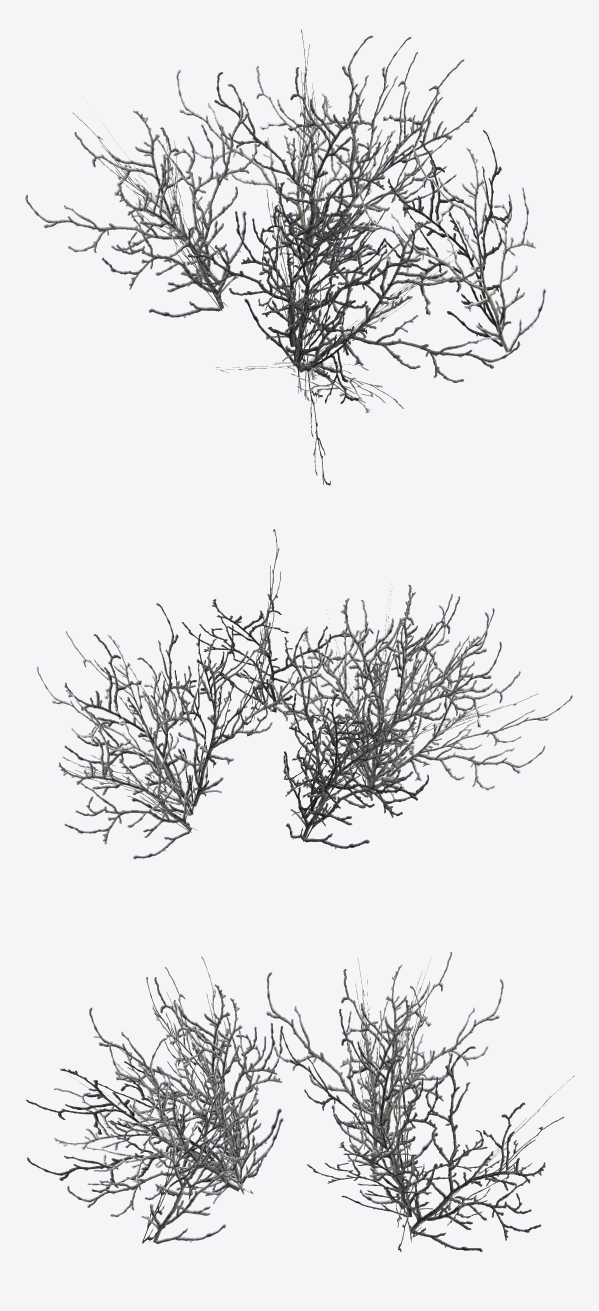
The model's file is SM_EN_2007_guanmu_03.FBX.
The picture shows the model from 3 angles, top to bottom: view 1: azimuth 30°, elevation 25°; view 2: azimuth 150°, elevation 25°; view 3: azimuth 270°, elevation 25°; orthographic projection. The views are drawn at different scales.
Parts seen in each view (by area): view 1: SM_EN_2007_guanmu_03; view 2: SM_EN_2007_guanmu_03; view 3: SM_EN_2007_guanmu_03.
Boxes of the visible parts, box(x1,y1,x2,y2) form: SM_EN_2007_guanmu_03: box(25, 29, 545, 485); SM_EN_2007_guanmu_03: box(36, 529, 572, 859); SM_EN_2007_guanmu_03: box(26, 952, 574, 1251).
Bounding box in the file's own units: 470 × 330 × 543.
